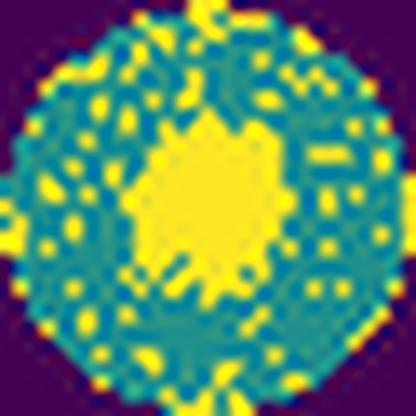Center: (114, 107, 298, 318)
